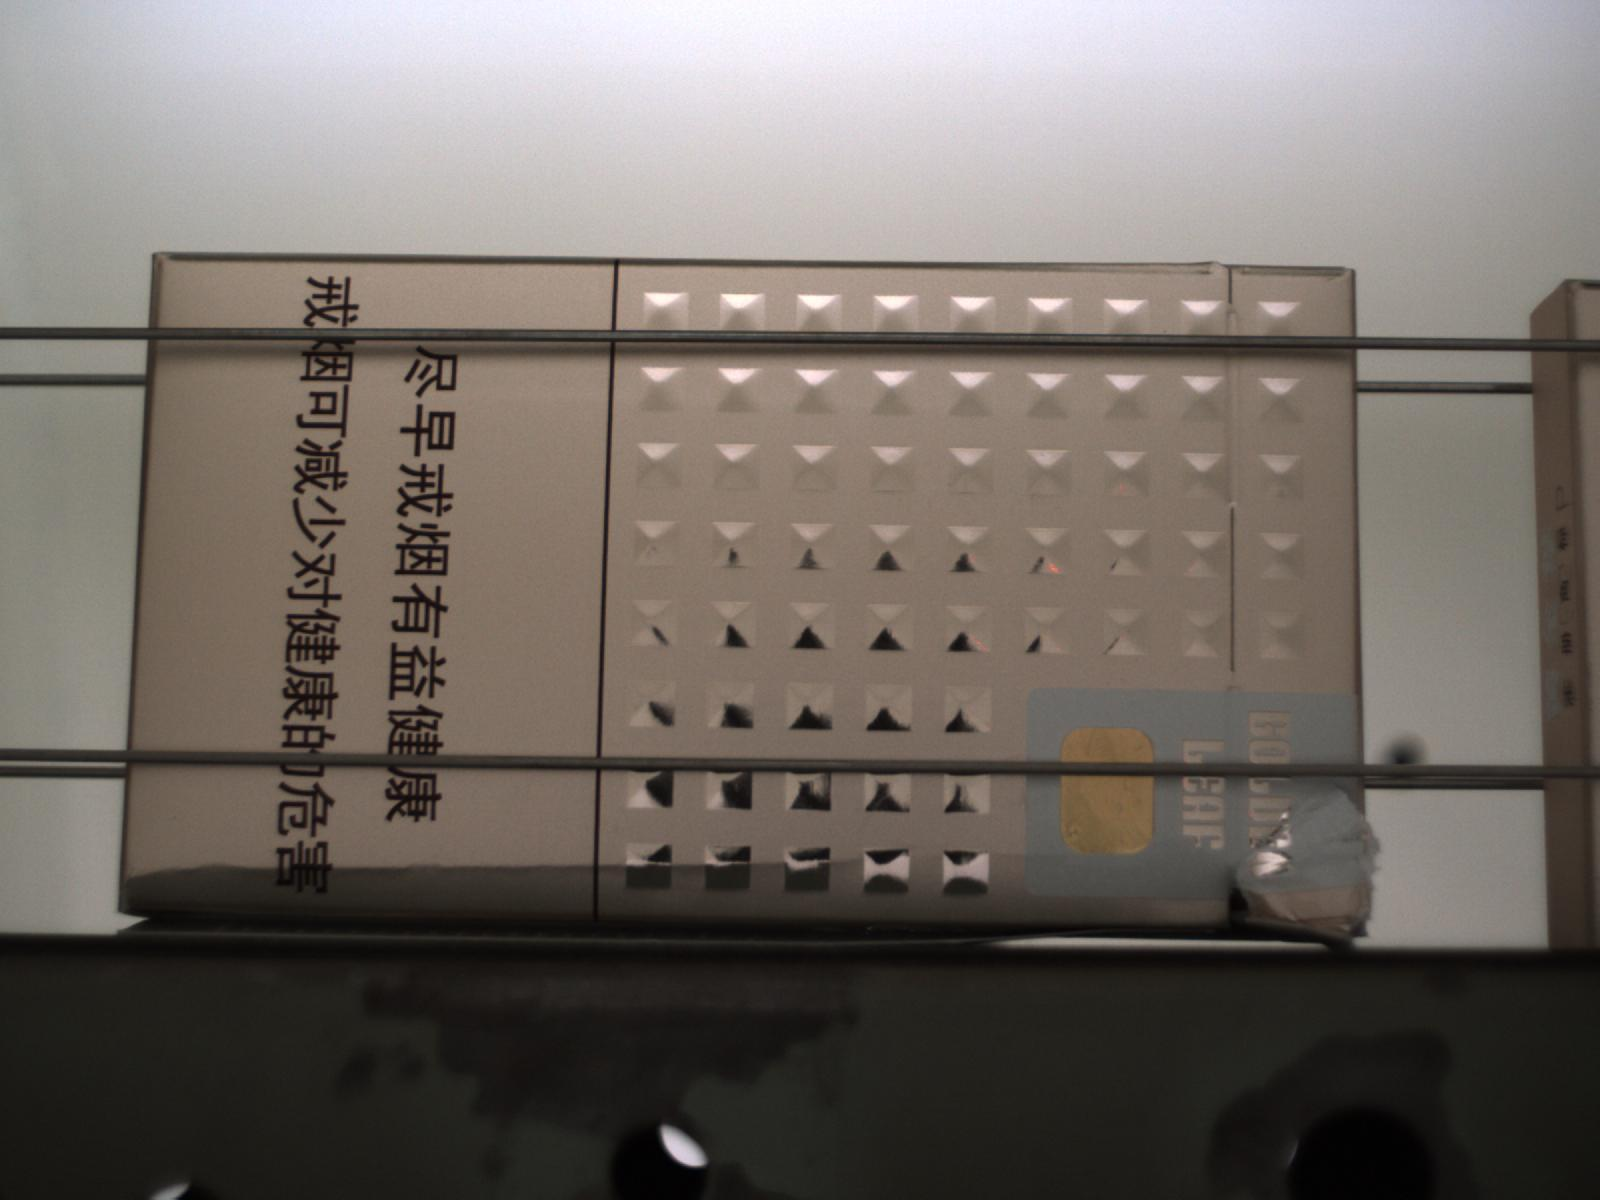dirtyScratch: (105, 839, 1414, 939)
